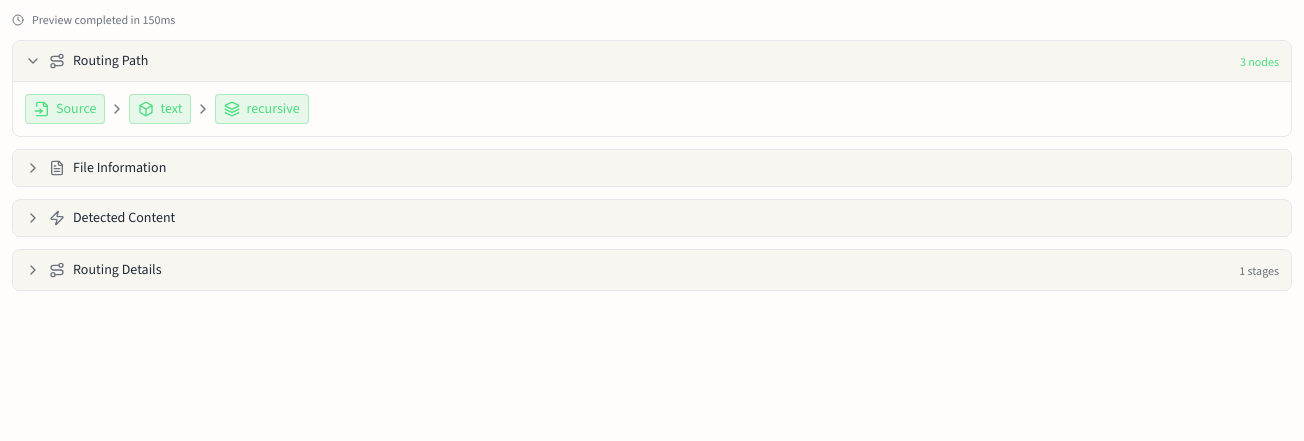
RoutePreviewResults › file information section › displays "unknown" when MIME type is null
Click the button "File Information" at (120,168), box [13,150,1291,186]
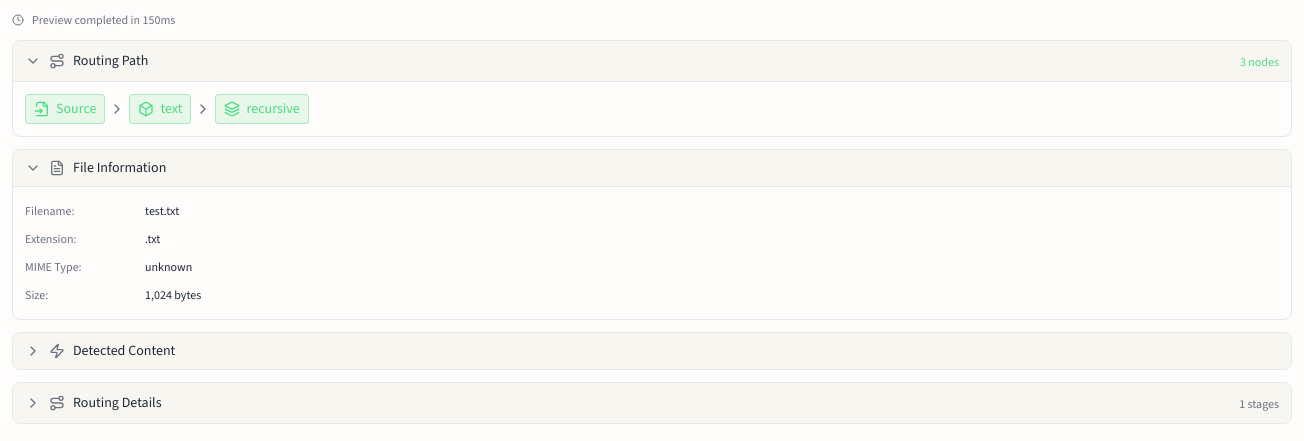
Expected: the text "unknown" is shown, [145,259,192,275]
